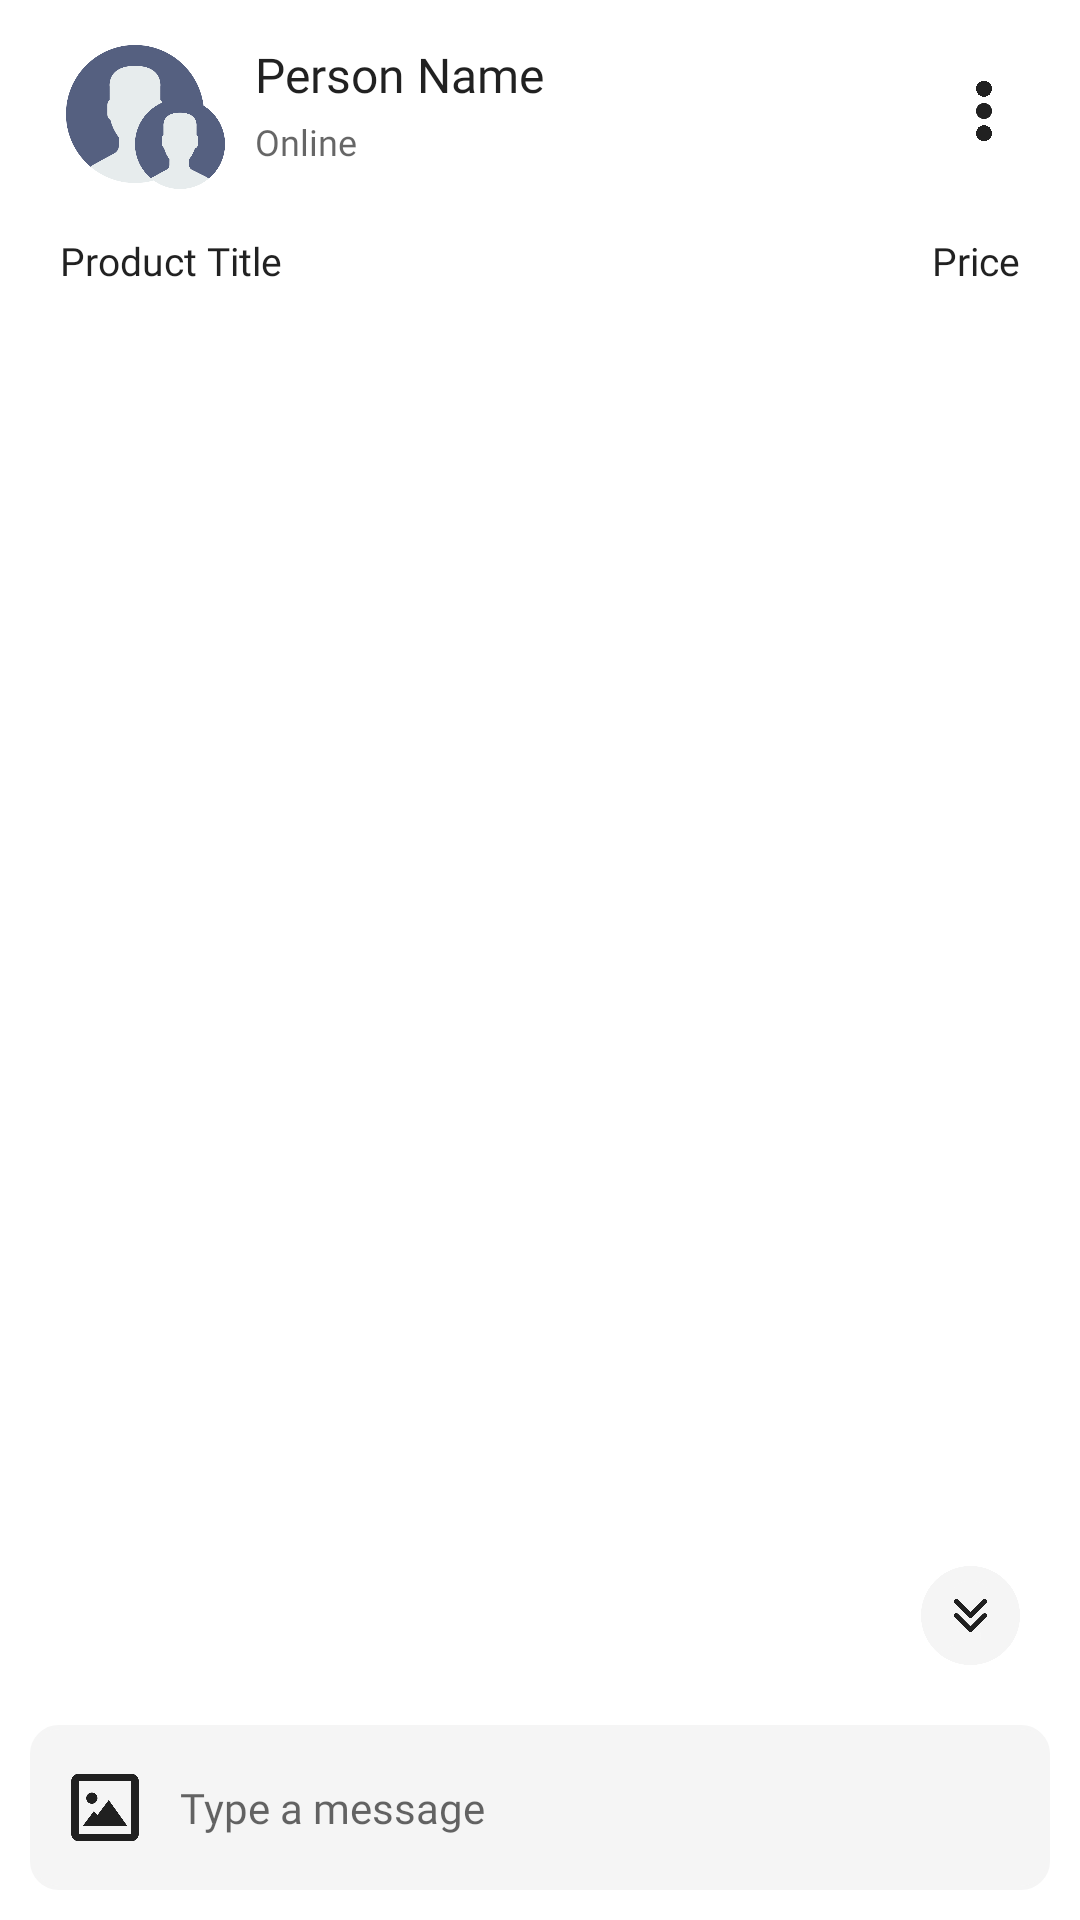

Icons on this 1080*1920 Android screen, each with the point to tap as point (x, y):
imageicon: point (105, 1807)
menuicon: point (984, 111)
skipbtn: point (970, 1615)
